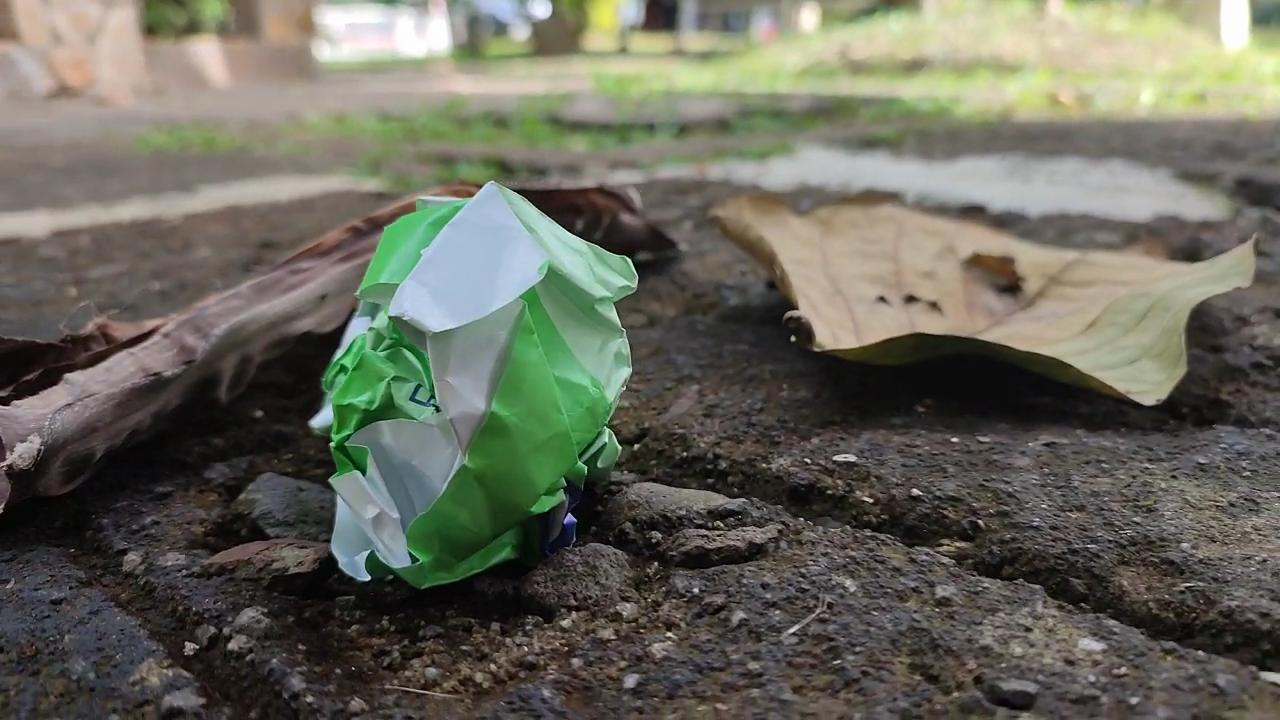Paper: (309, 174, 637, 598)
